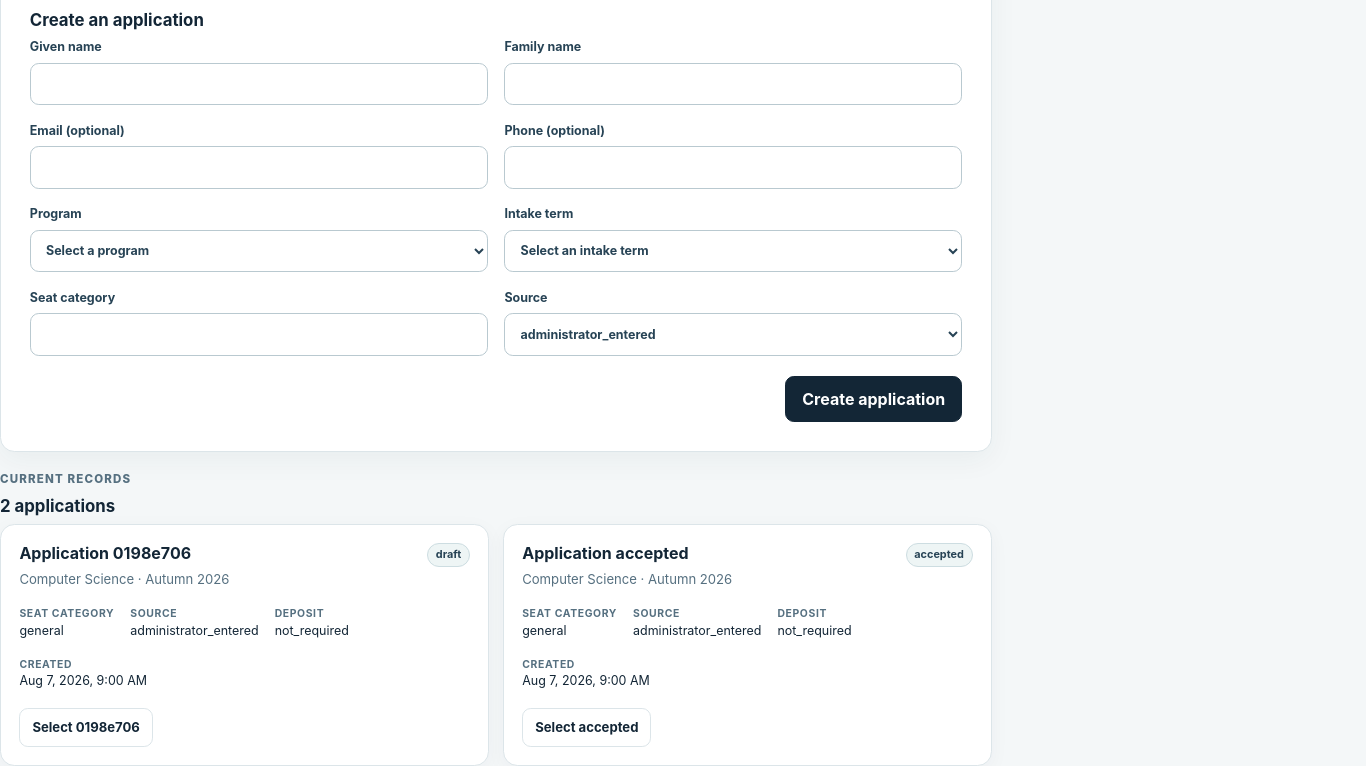
Scenario: AdmissionsWorkflow › submits drafts and converts accepted applications
(page scrolled)
Click the button "Select 0198e706". click: (86, 728)
box: [19, 708, 153, 747]
(page scrolled)
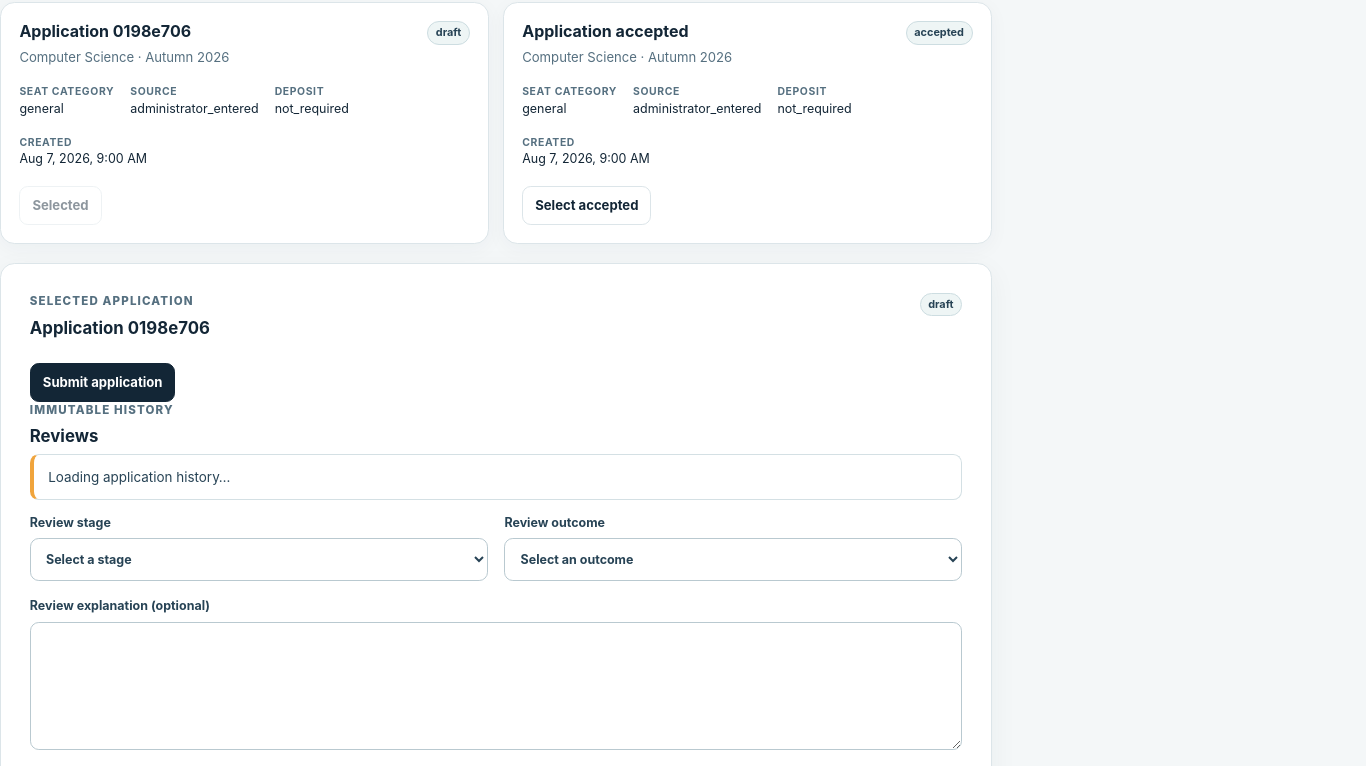
Click the button "Submit application". click: (103, 382)
box: [30, 363, 176, 402]
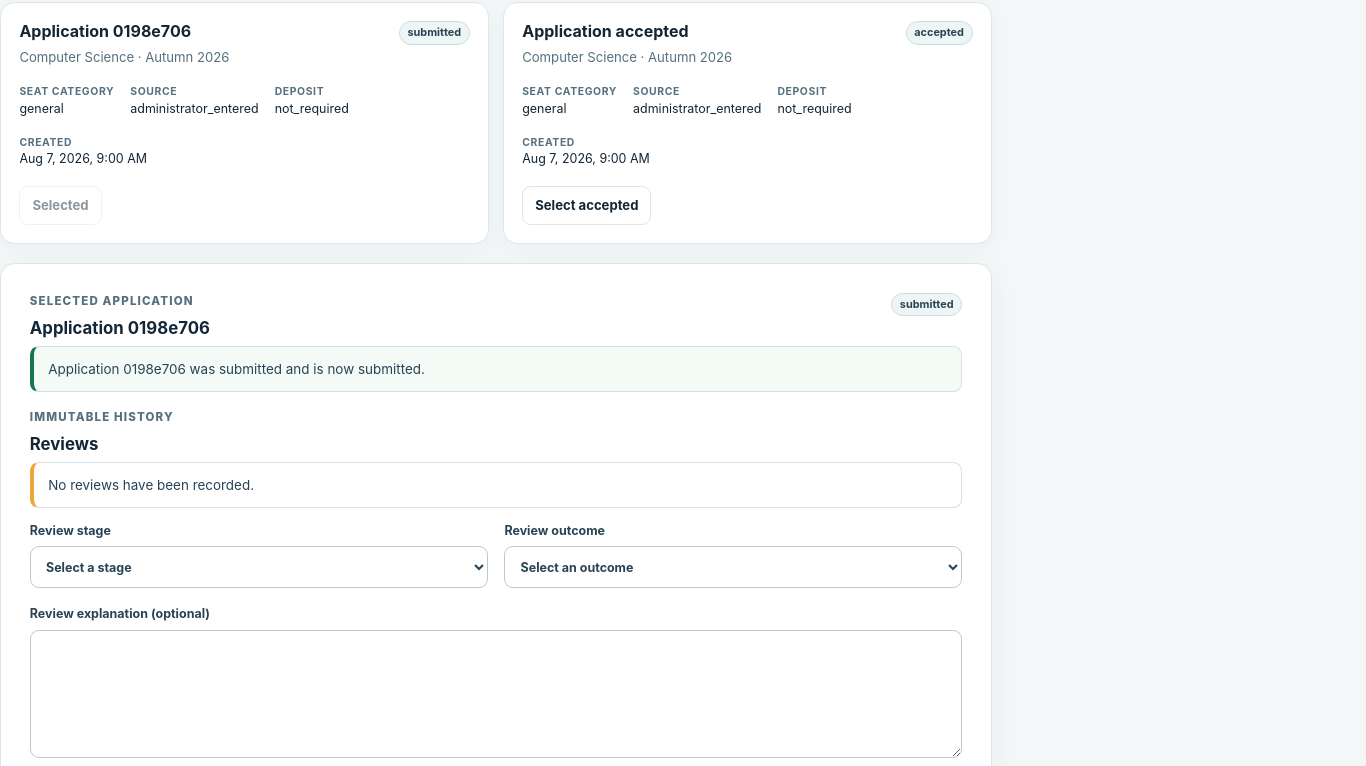
expect the text "Application 0198e706 was submitted and is now submitted." is shown: met, box [30, 346, 962, 392]
Click the button "Select accepted". click: (587, 206)
box: [522, 186, 651, 225]
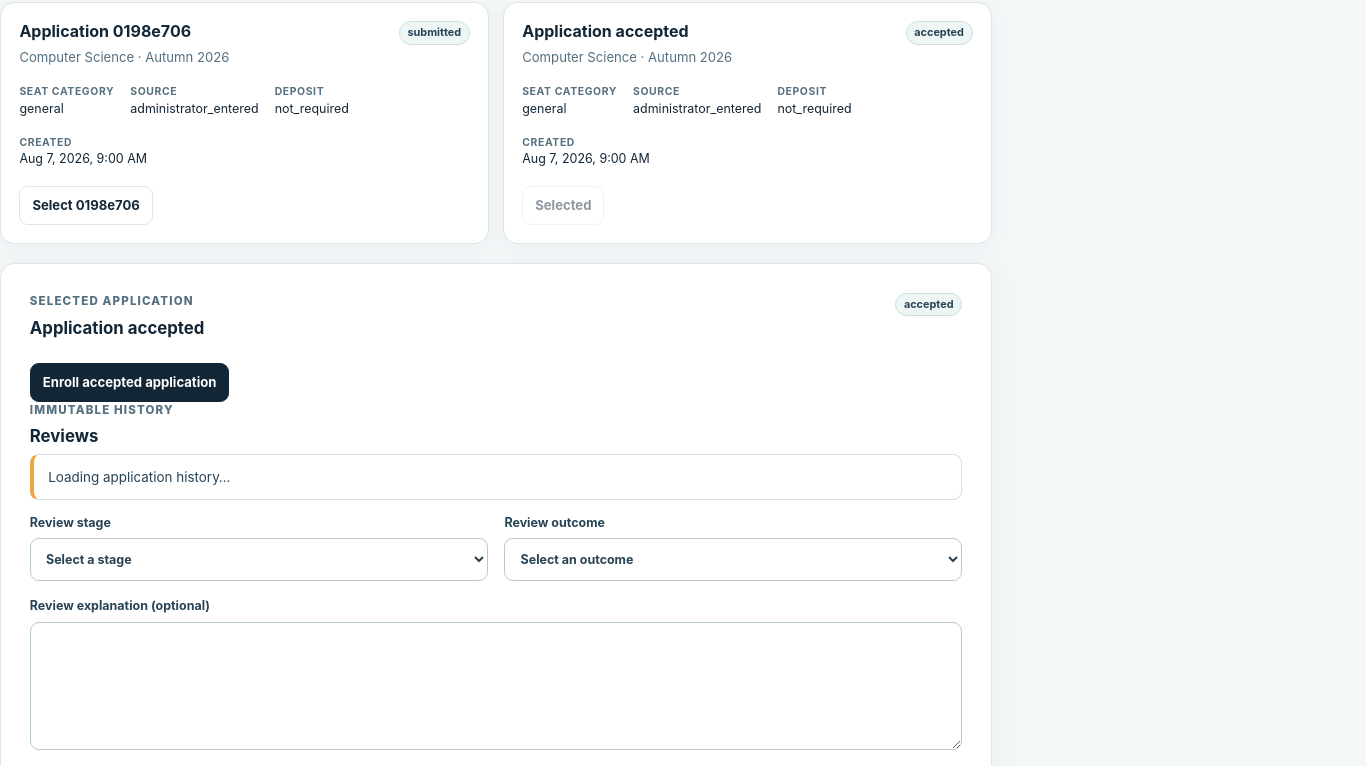
Click the button "Enroll accepted application". click: (130, 382)
box: [30, 363, 229, 402]
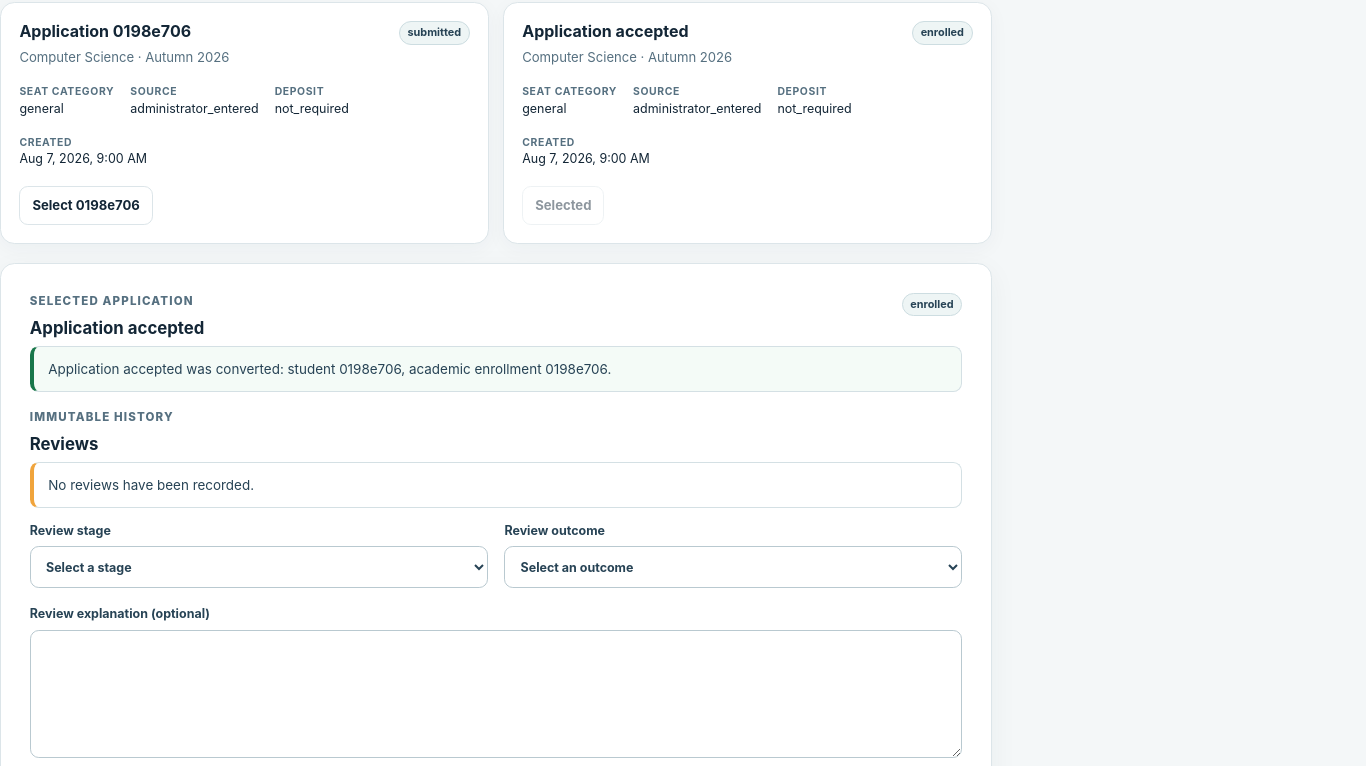
expect the text "Application accepted was converted: student 0198e706, academic enrollment 0198e706." is shown: met, box [48, 361, 611, 377]
